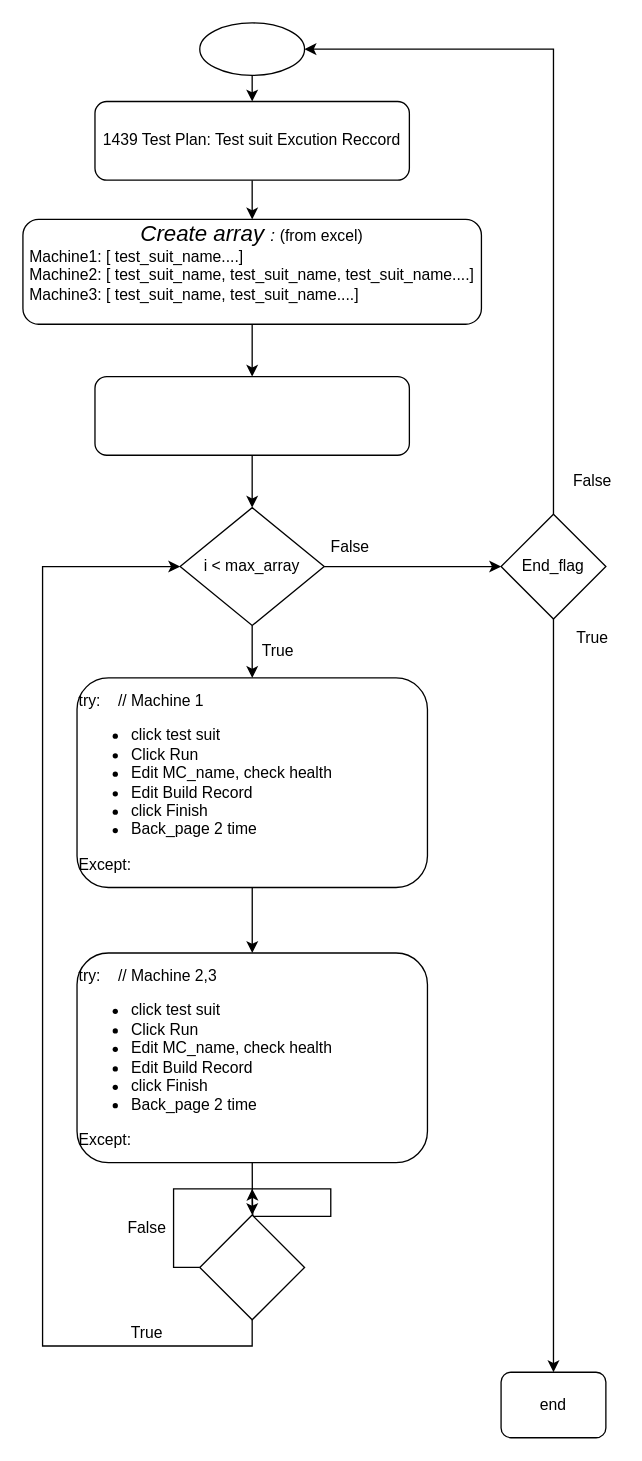
Some shapes in this 642 by 1461 pixel diagram are drawn without their labels. The shapes that lost their labels are listed below. From the top down, each one's centre as x and y in pixels, then its label:
At (251,48): "Login".
At (251,415): "Find max array and length of that array".
At (251,1267): "Complete??".
